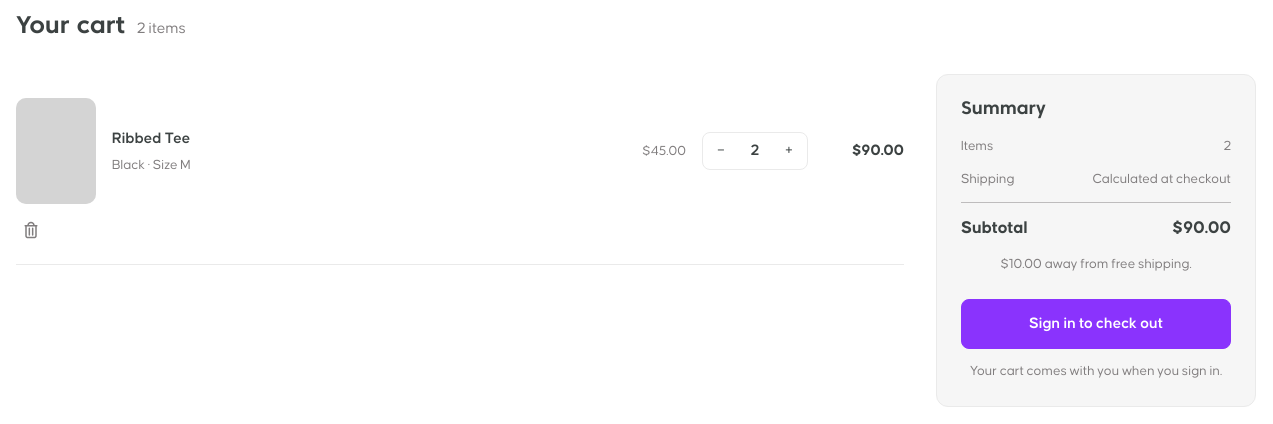
Test case: Cart page › with a guest cart › stops at the stock on hand
Step 1. Click the button named "Increase quantity of Ribbed Tee" → (789, 151), box [771, 133, 807, 169]
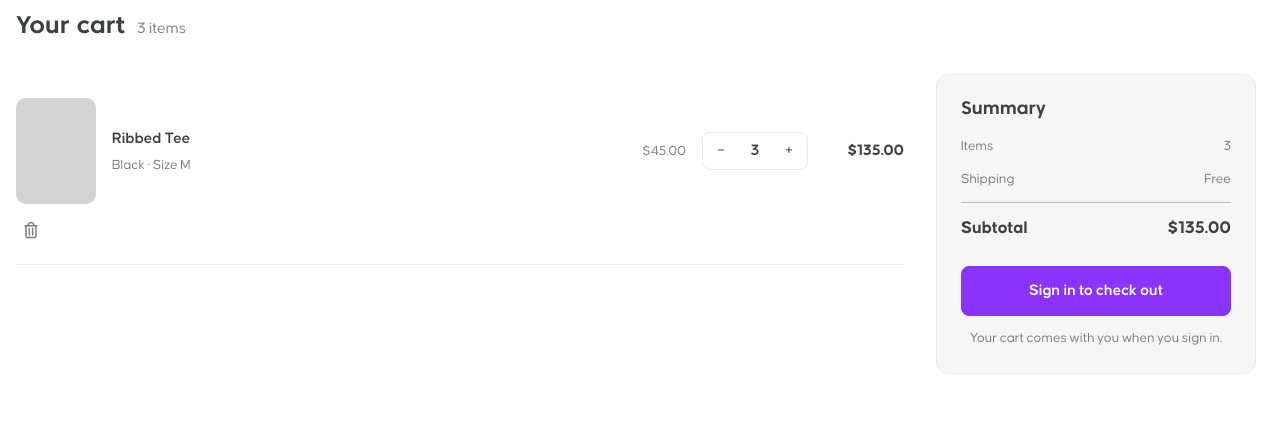
Step 2. Click the button named "Increase quantity of Ribbed Tee" → (789, 151), box [771, 133, 807, 169]
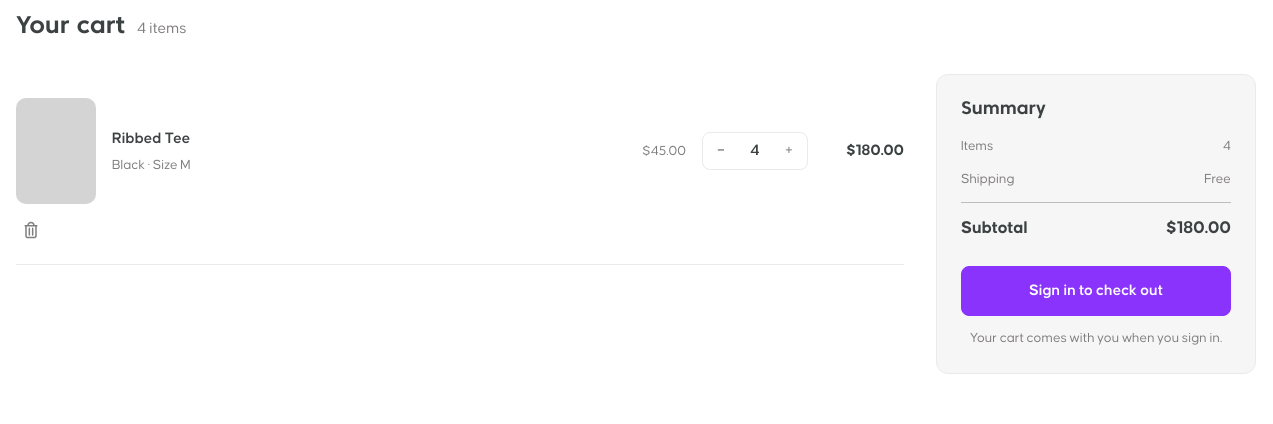
Now the text "4 items" is shown, box [137, 17, 186, 41]
